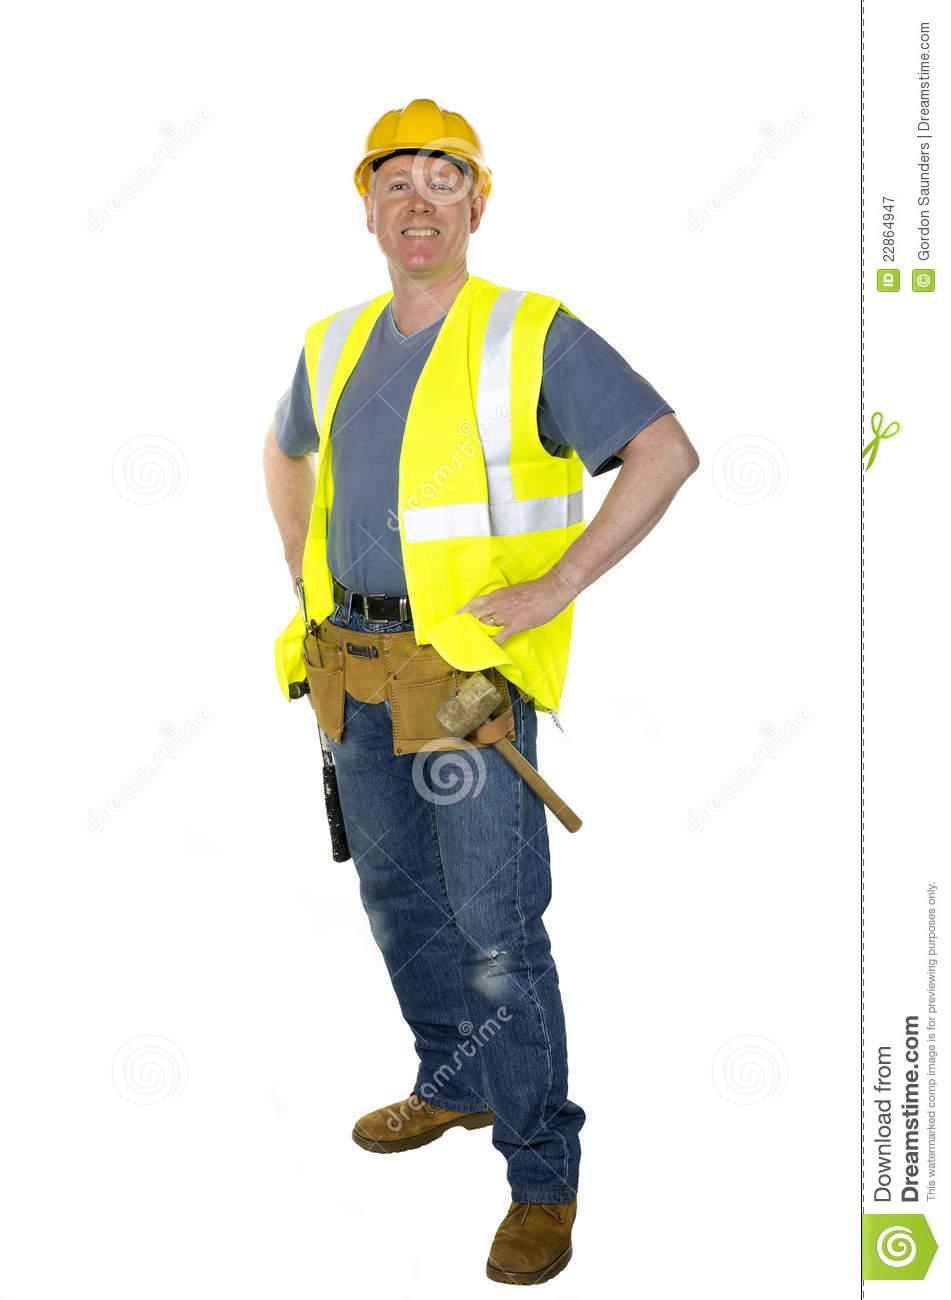helmet: (357, 100, 496, 199)
